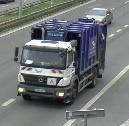Car: (85, 7, 113, 26)
Truck: (15, 18, 107, 104)
